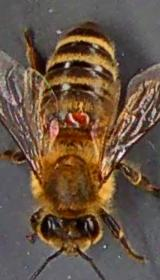varroa_mite: (64, 105, 94, 130)
